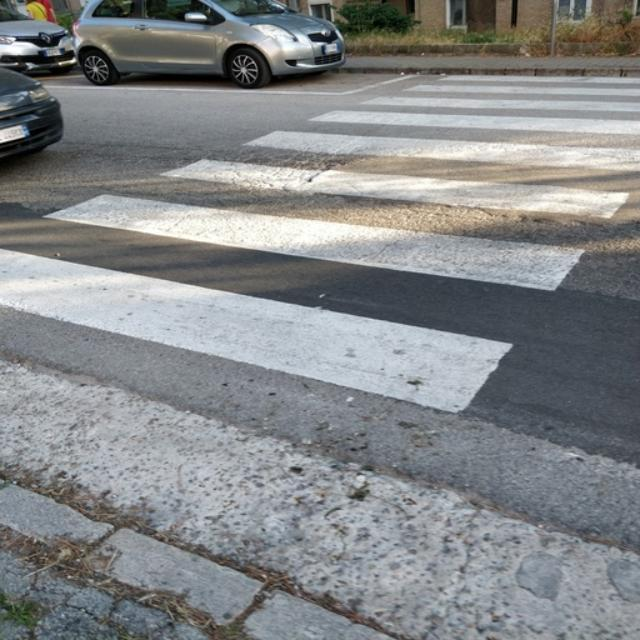sidewalk: (1, 74, 639, 414)
